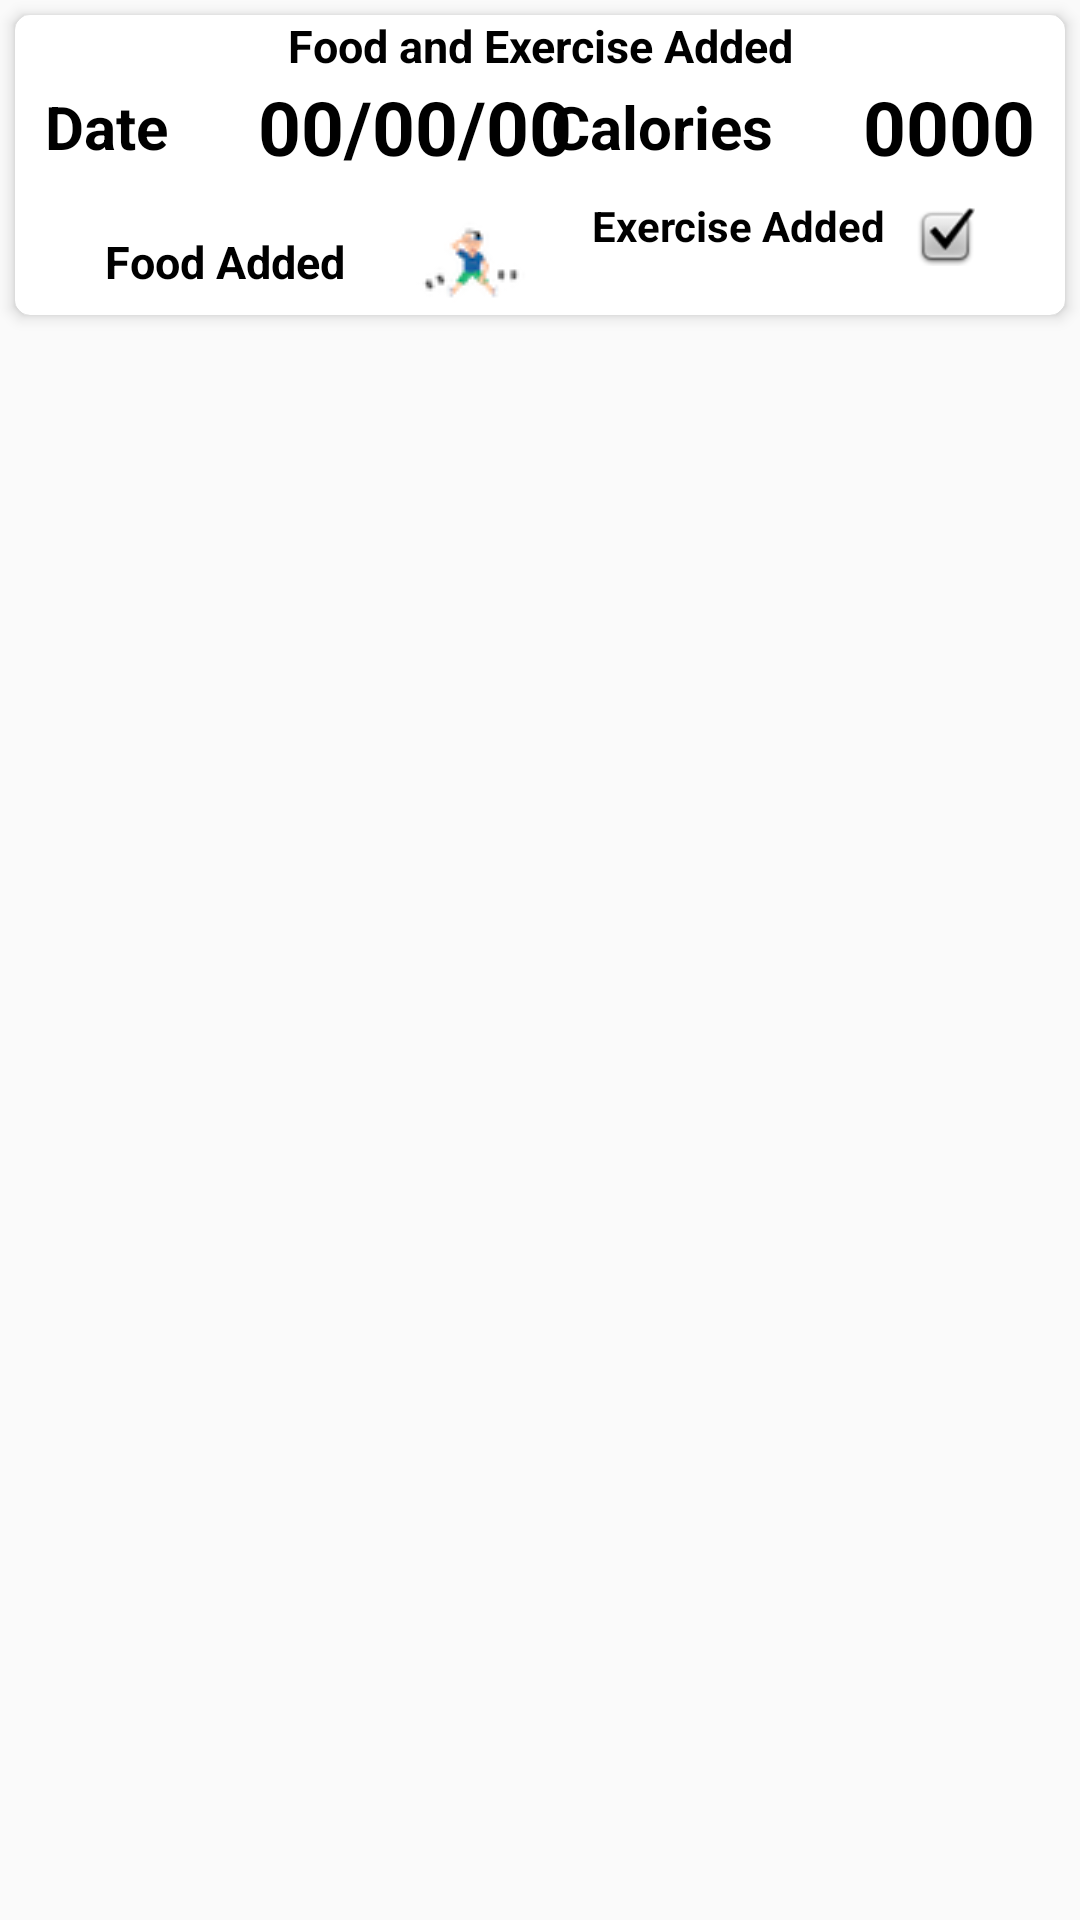

Named icons in this screenshot (1080 × 1920) and their bounding boxes, box(x1, y1, x2, y2):
workout: box(425, 229, 518, 297)
